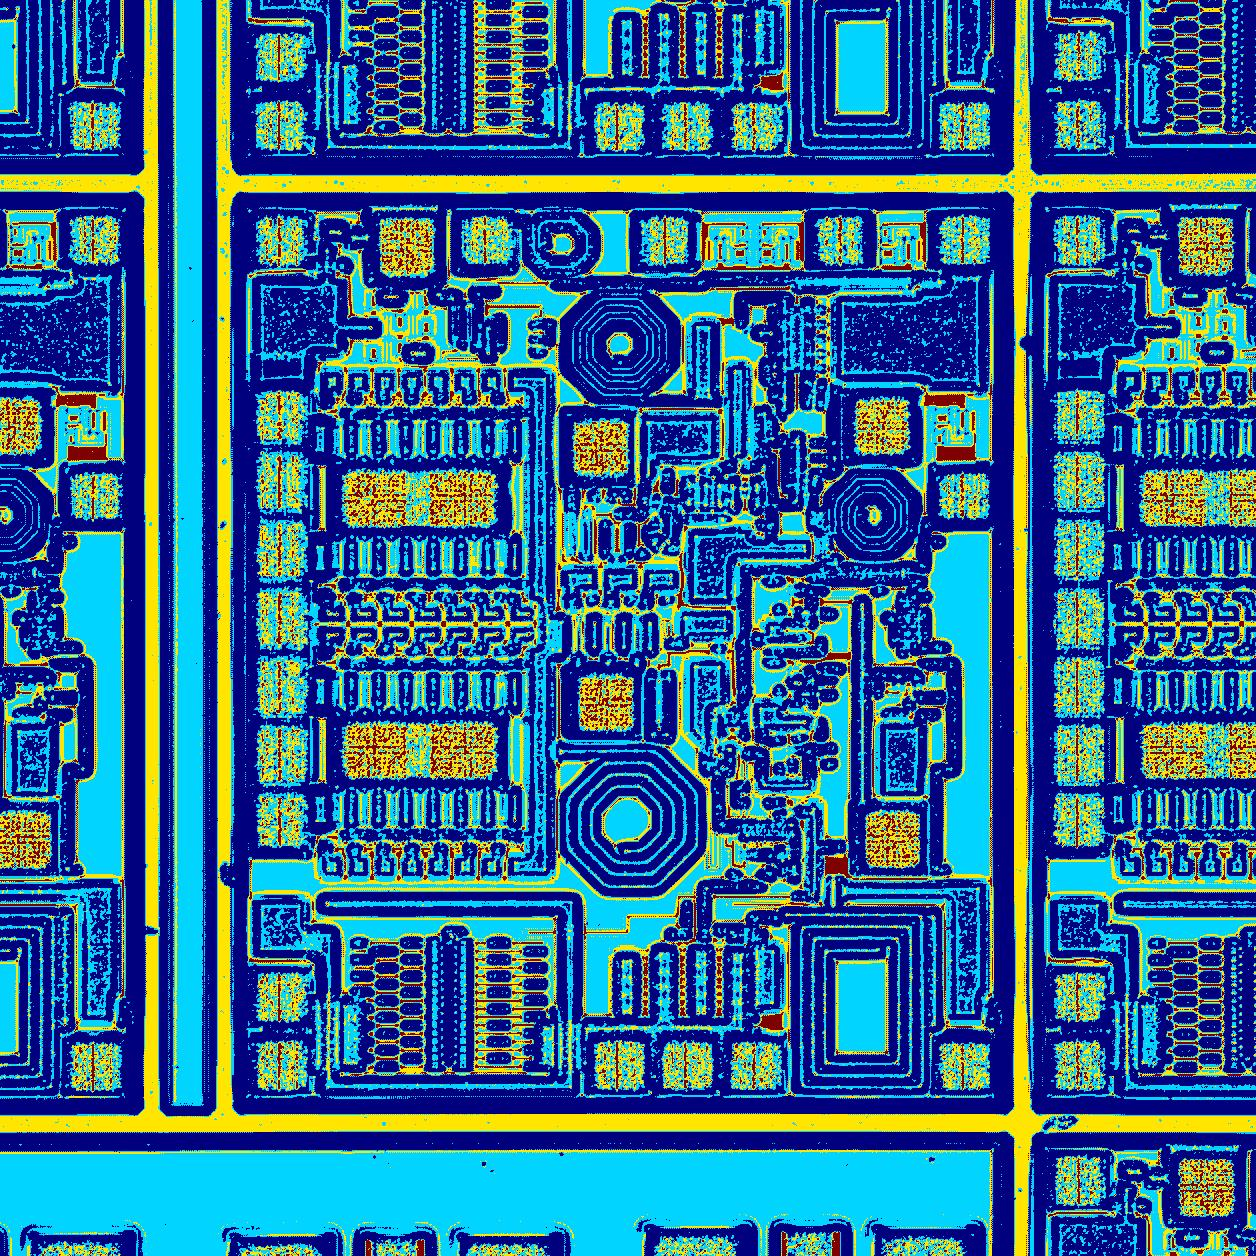Die: (230, 192, 1016, 1116)
Pad 1: (429, 469, 497, 527), (344, 721, 407, 780), (342, 470, 406, 528), (429, 722, 496, 778), (573, 419, 628, 478), (380, 219, 436, 276), (865, 810, 920, 867), (579, 676, 635, 732), (856, 398, 909, 455)
Pad 2: (258, 725, 308, 787), (256, 590, 307, 650), (258, 521, 307, 582), (258, 657, 307, 718), (258, 452, 304, 513), (258, 792, 306, 848), (595, 1041, 645, 1092), (256, 391, 302, 445), (941, 215, 990, 265), (256, 973, 306, 1023), (256, 1041, 306, 1090), (732, 1042, 782, 1090), (663, 1042, 713, 1090), (939, 473, 990, 520), (256, 217, 306, 266), (462, 217, 512, 266), (641, 216, 689, 266), (940, 1044, 990, 1090), (818, 216, 863, 265)
